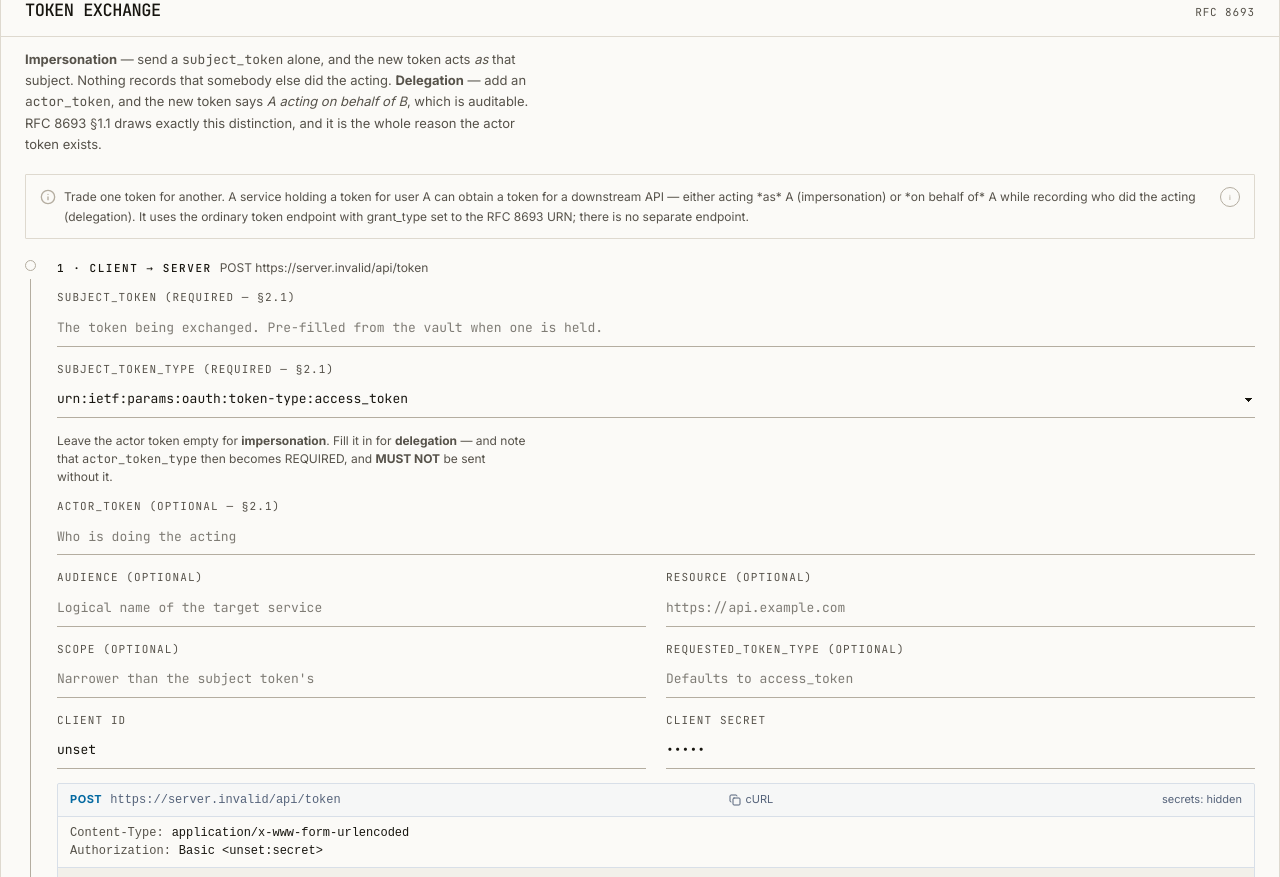
Test case: the deliberate defects are reported as deliberate › flags the non-specification members, and why `subject` is the dangerous one
Replace the text in the field labelled "subject_token (REQUIRED — §2.1)" with "subject-at" at (656, 329), box [57, 311, 1255, 347]
(page scrolled)
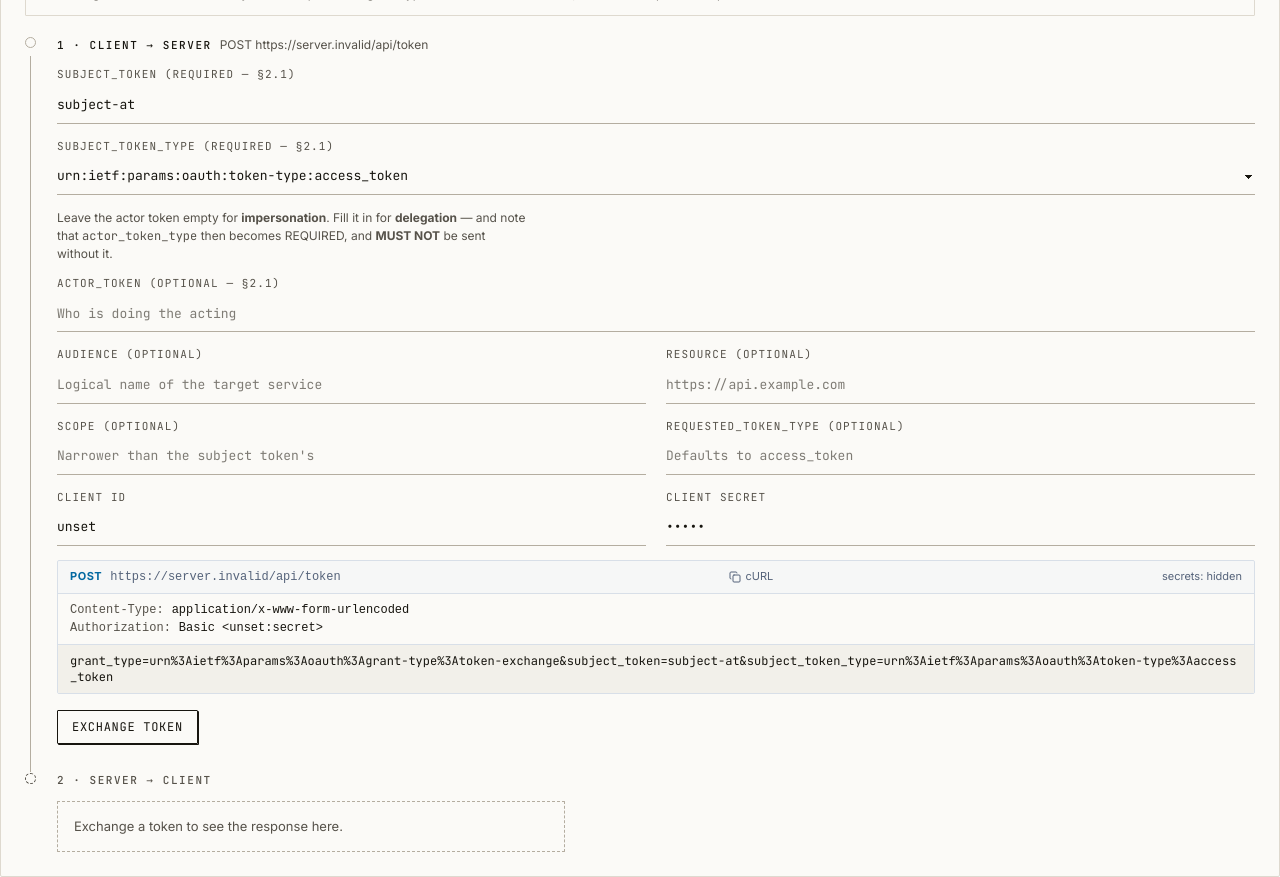
Click the button "Exchange token" at (127, 727), box [57, 710, 198, 744]
(page scrolled)
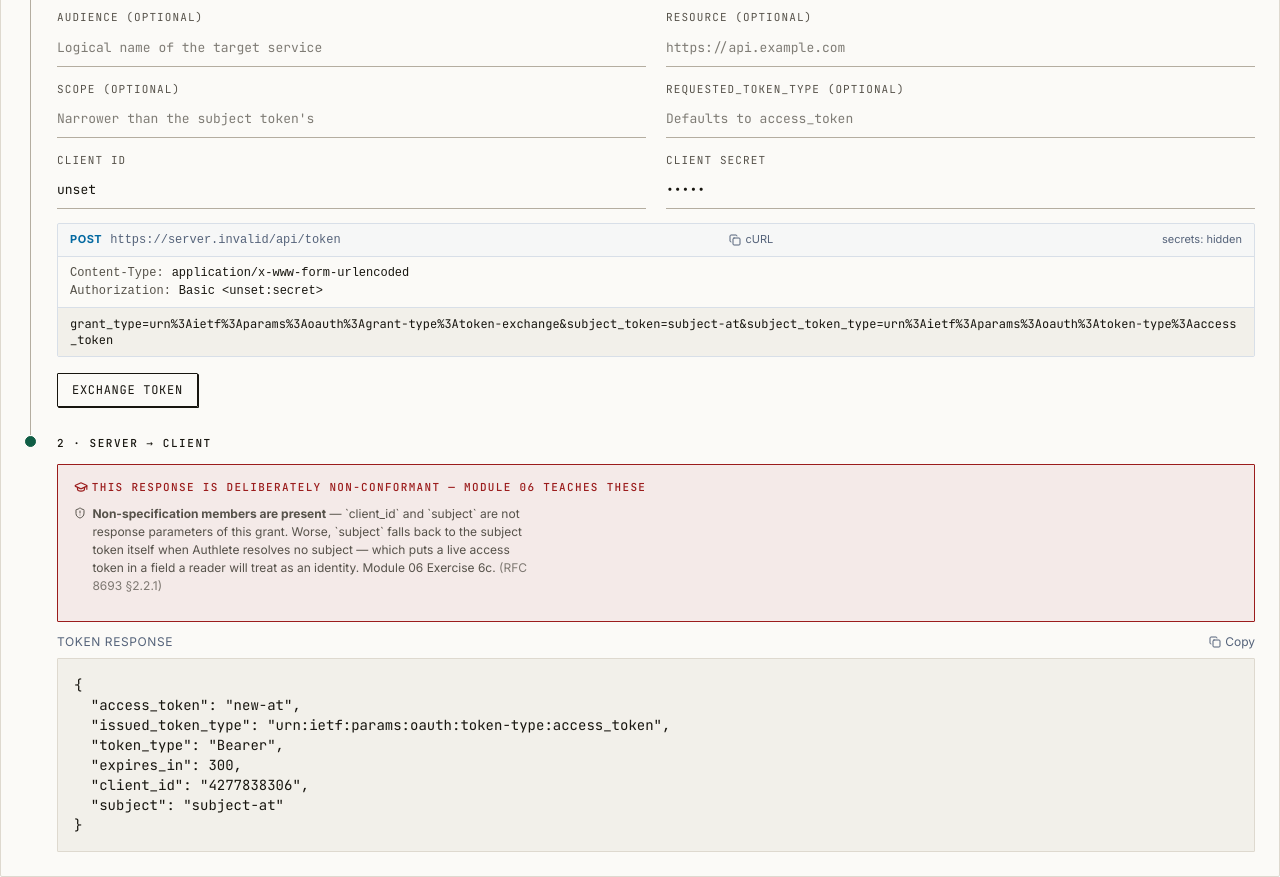
Expected: the text "deliberately non-conformant" is shown, [92, 480, 646, 494]
Expected: the text "Non-specification members are present" is shown, [92, 506, 326, 521]
Expected: the text "Exercise 6c" is shown, [92, 506, 522, 575]
